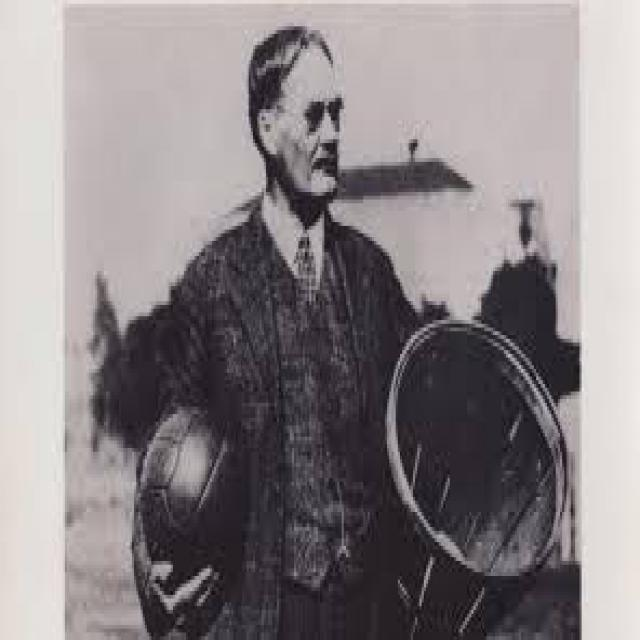basketball: (139, 411, 256, 597)
